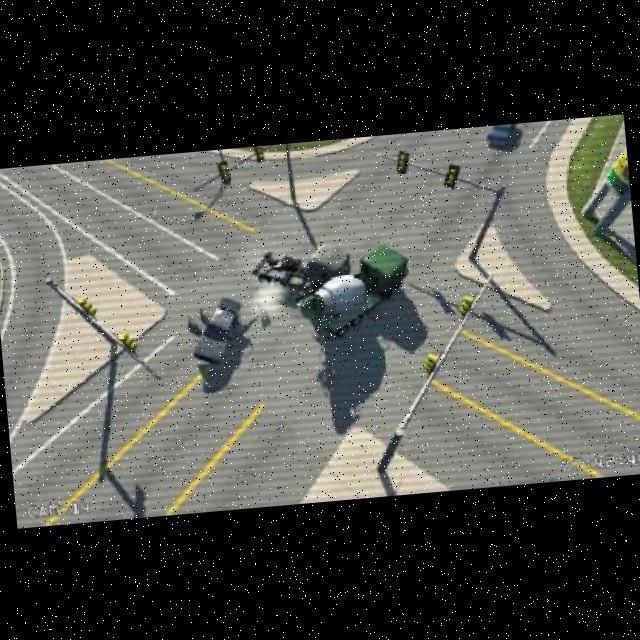accident: (251, 234, 417, 338)
